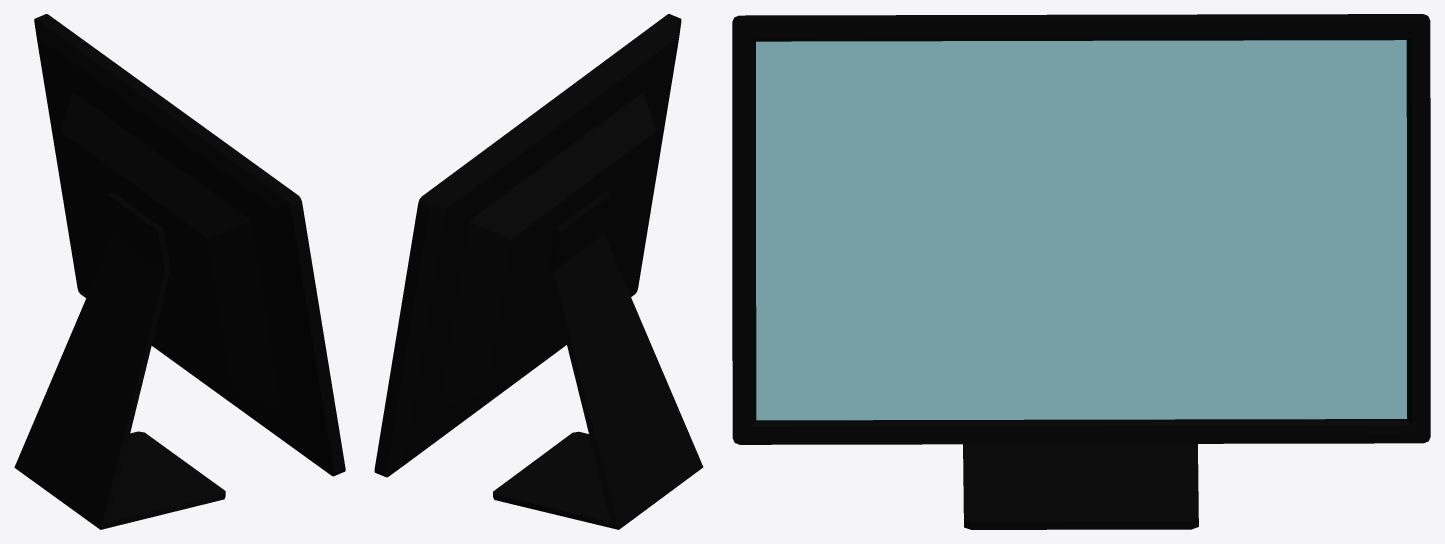
Rendered from monitor.glb.
3 views of the same model, side by side, from view 1: azimuth 30°, elevation 25°; view 2: azimuth 150°, elevation 25°; view 3: azimuth 270°, elevation 25° (orthographic). The views are drawn at different scales.
Visible parts, largest first — view 1: Monitor; view 2: Monitor; view 3: Monitor.
Part boxes in pixels (box(x1,y1,x2,y2)): Monitor: box(14, 14, 345, 529); Monitor: box(374, 14, 703, 529); Monitor: box(732, 14, 1430, 529).
Bounding box in the file's own units: 0.218 × 0.4581 × 0.5777.
1 material, 1 textured.
